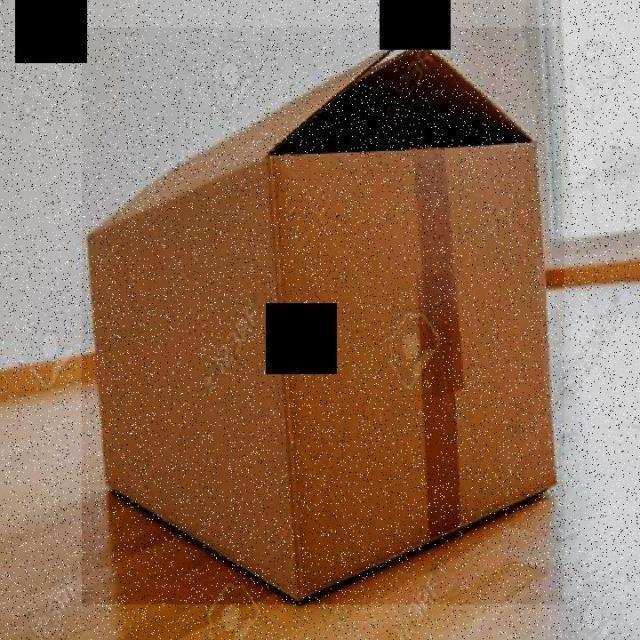box: (81, 28, 564, 604)
